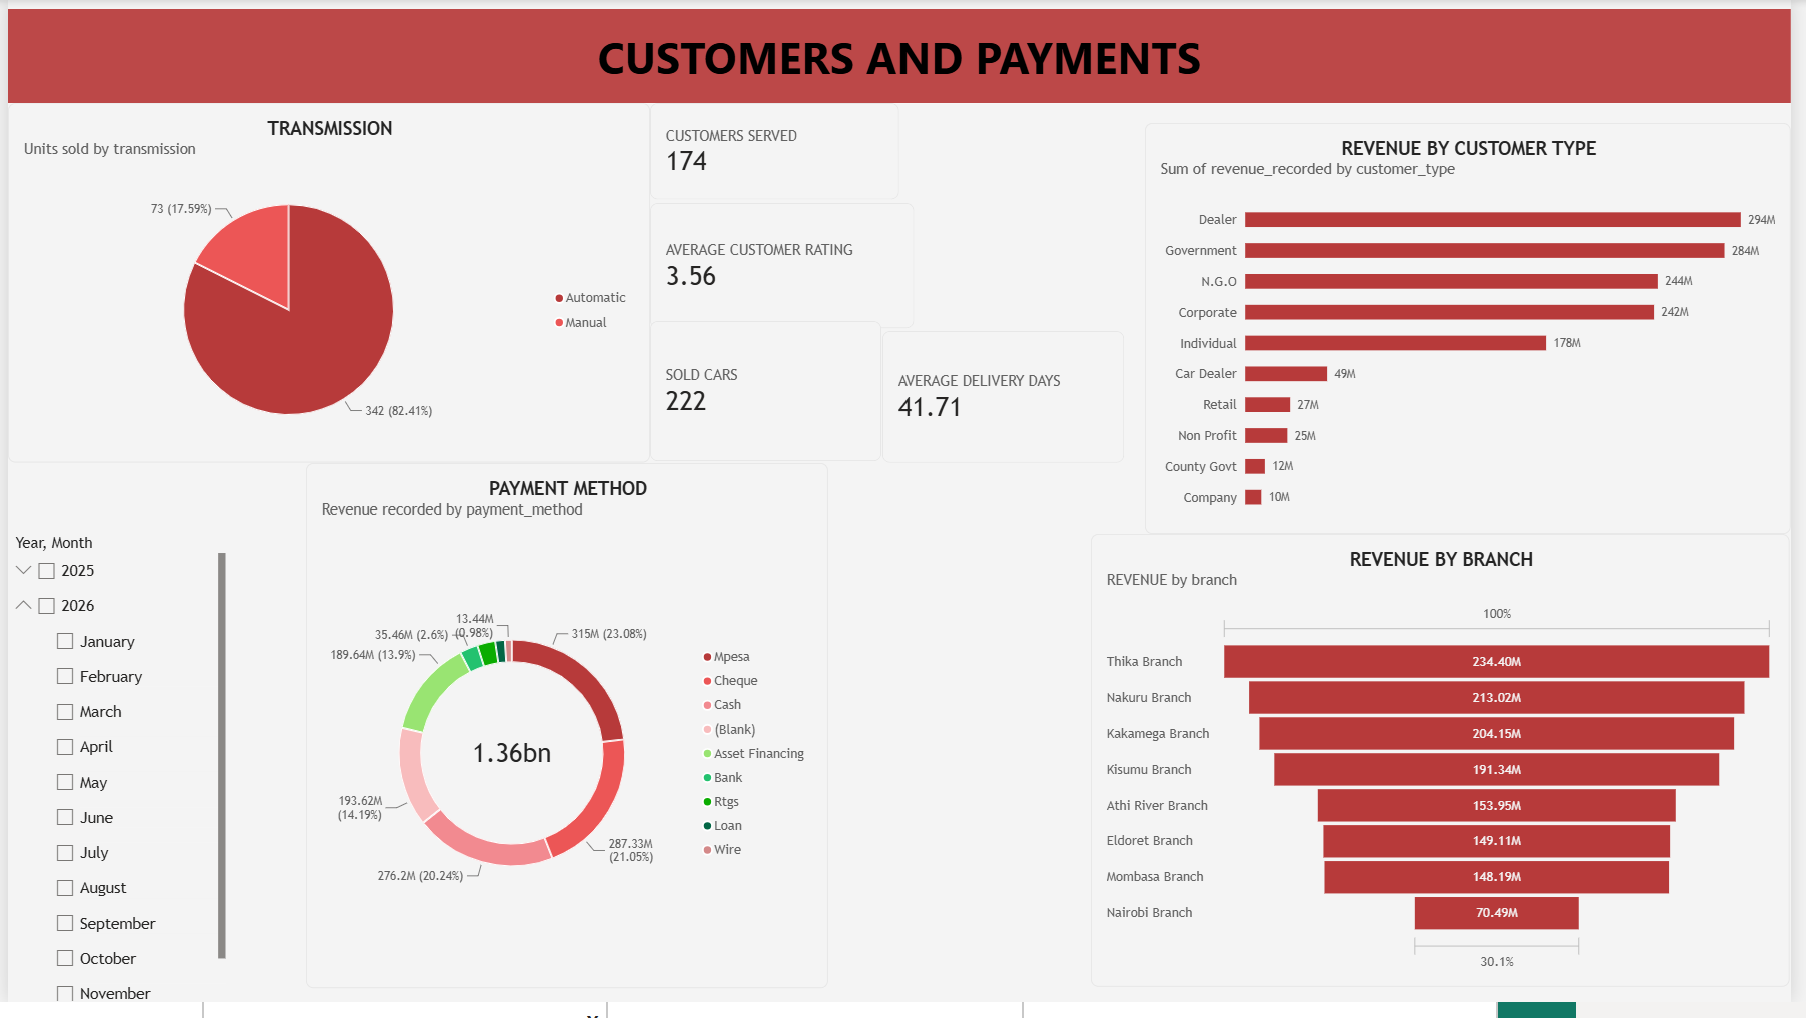

Layout of this report page (visuals, bound fields, positions):
{"tool":"powerbi","page":{"name":"CUSTOMERS AND PAYMENTS ","canvas":[1920,1080],"ordinal":1},"visuals":[{"type":"pieChart","title":"TRANSMISSION","fields":{"Category":["facts_sales.transmission"],"Y":["Sum(facts_sales.units_sold)"]},"box":[0,111.7,691.8,387.5],"z":2000},{"type":"clusteredBarChart","title":"REVENUE BY CUSTOMER TYPE","fields":{"Category":["facts_sales.customer_type"],"Y":["Sum(facts_sales.revenue_recorded)"]},"box":[1223.8,133.5,696.2,442.2],"z":4000},{"type":"slicer","fields":{"Values":["facts_sales.order_date.Variation.Date Hierarchy.Year","facts_sales.order_date.Variation.Date Hierarchy.Month"]},"box":[0,575.5,234.3,502.7],"z":4002},{"type":"funnel","title":"REVENUE BY BRANCH","fields":{"Category":["facts_sales.branch"],"Y":["Sum(facts_sales.revenue_recorded)"]},"box":[1166.9,575.8,753.1,488.2],"z":4003},{"type":"shape","title":"J CARS AUTOMOTIVE DEALERSHIP","box":[0,10.8,1920.7,101.3],"z":4004},{"type":"donutChart","title":"PAYMENT METHOD","fields":{"Category":["facts.payment_method"],"Y":["Sum(facts.revenue_recorded)"]},"box":[321.8,499.2,562.6,564.8],"z":4005},{"type":"cardVisual","fields":{"Data":["facts_sales.Customers served"]},"box":[691.8,111.7,268.4,104.6],"z":4006},{"type":"cardVisual","fields":{"Data":["Avg(facts.customer_rating)"]},"box":[691.8,218.9,284.6,135.7],"z":4007},{"type":"cardVisual","fields":{"Data":["facts_sales.SOLD CARS"]},"box":[691.8,348.1,249.6,151.1],"z":4008},{"type":"cardVisual","fields":{"Data":["Avg(facts.Delivery Days)"]},"box":[941.4,356.9,260,142.5],"z":4009}]}

Visuals, with their boxes in screenshot pixels (x1, y1, x2, y2), scaled from the page's 1920x1080 canvas onto the 1806x1018 screenshot:
"TRANSMISSION" pieChart: 0 105 651 471
"REVENUE BY CUSTOMER TYPE" clusteredBarChart: 1151 126 1805 543
slicer - facts_sales.order_date.Variation.Date Hierarchy.Year x facts_sales.order_date.Variation.Date Hierarchy.Month: 0 542 220 1016
"REVENUE BY BRANCH" funnel: 1098 543 1805 1003
"J CARS AUTOMOTIVE DEALERSHIP" shape: 0 10 1805 106
"PAYMENT METHOD" donutChart: 303 471 832 1003
cardVisual - facts_sales.Customers served: 651 105 903 204
cardVisual - Avg(facts.customer_rating): 651 206 918 334
cardVisual - facts_sales.SOLD CARS: 651 328 886 471
cardVisual - Avg(facts.Delivery Days): 886 336 1130 471
